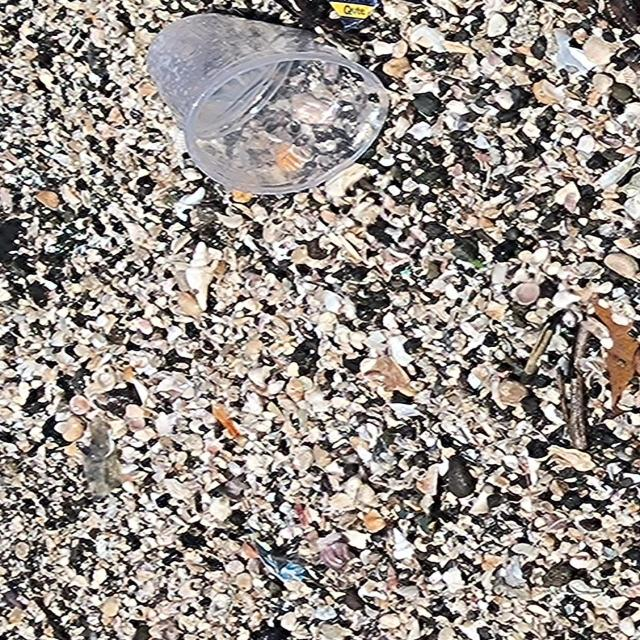plastic_waste: (149, 15, 396, 204)
